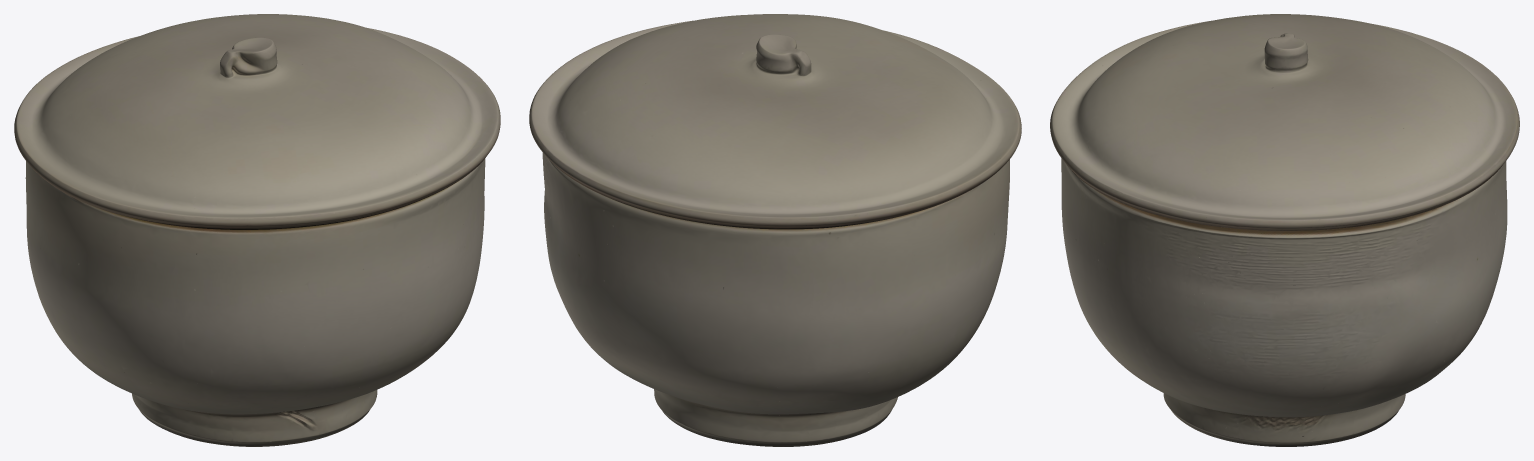
3 views of the same model, side by side, from view 1: azimuth 30°, elevation 25°; view 2: azimuth 150°, elevation 25°; view 3: azimuth 270°, elevation 25° (orthographic).
Parts seen in each view (by area): view 1: node_0; view 2: node_0; view 3: node_0.
Part boxes in pixels (box(x1,y1,x2,y2)): node_0: box(14, 14, 500, 446); node_0: box(529, 14, 1021, 446); node_0: box(1050, 14, 1519, 446).
Bounding box in the file's own units: 1.1 × 0.8723 × 1.04.
1 material, 1 textured.
